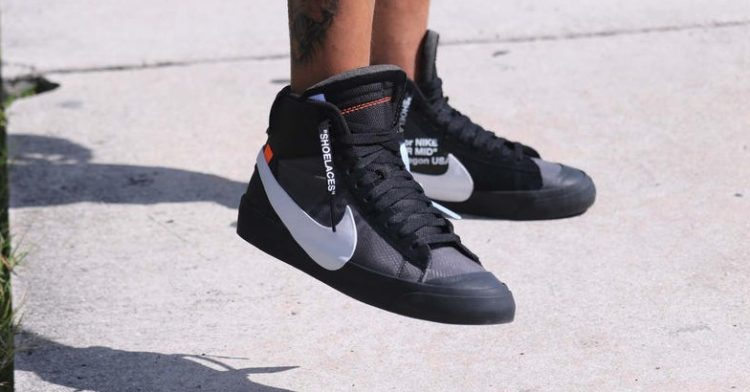Nike Blazer Grim Reaper: (227, 58, 524, 349), (336, 24, 617, 228)
